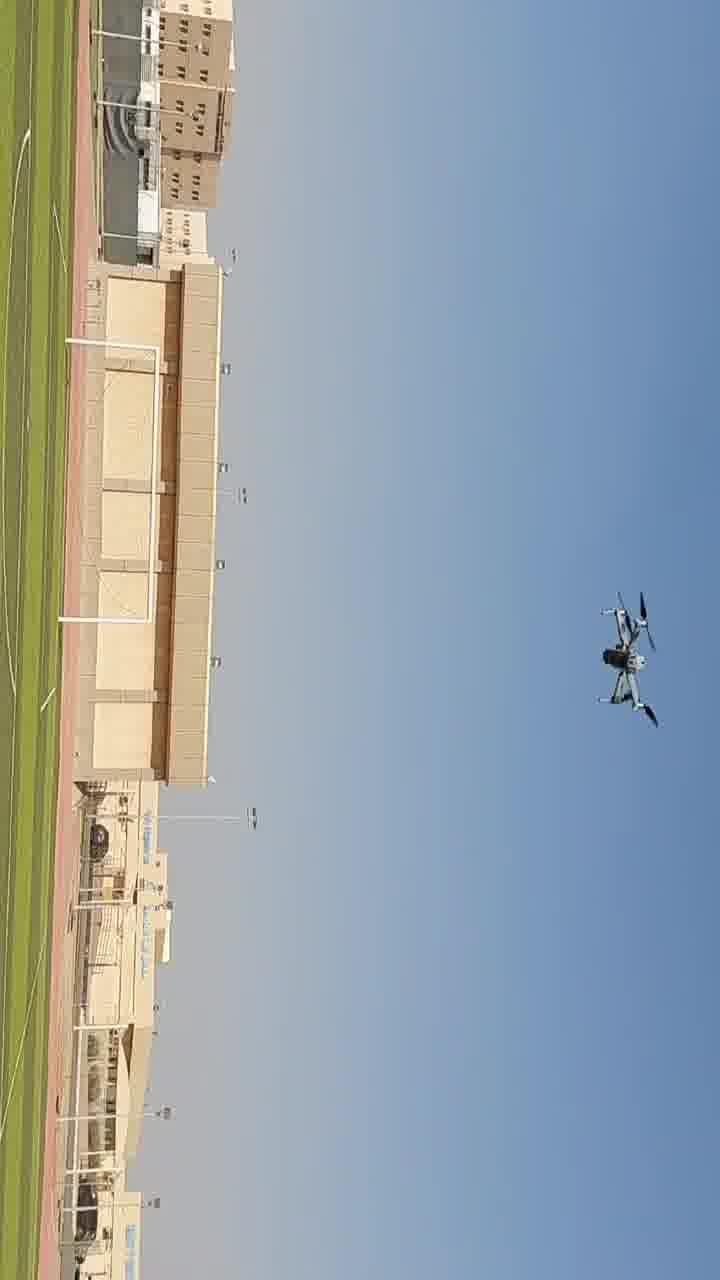drone: (325, 91, 413, 242)
